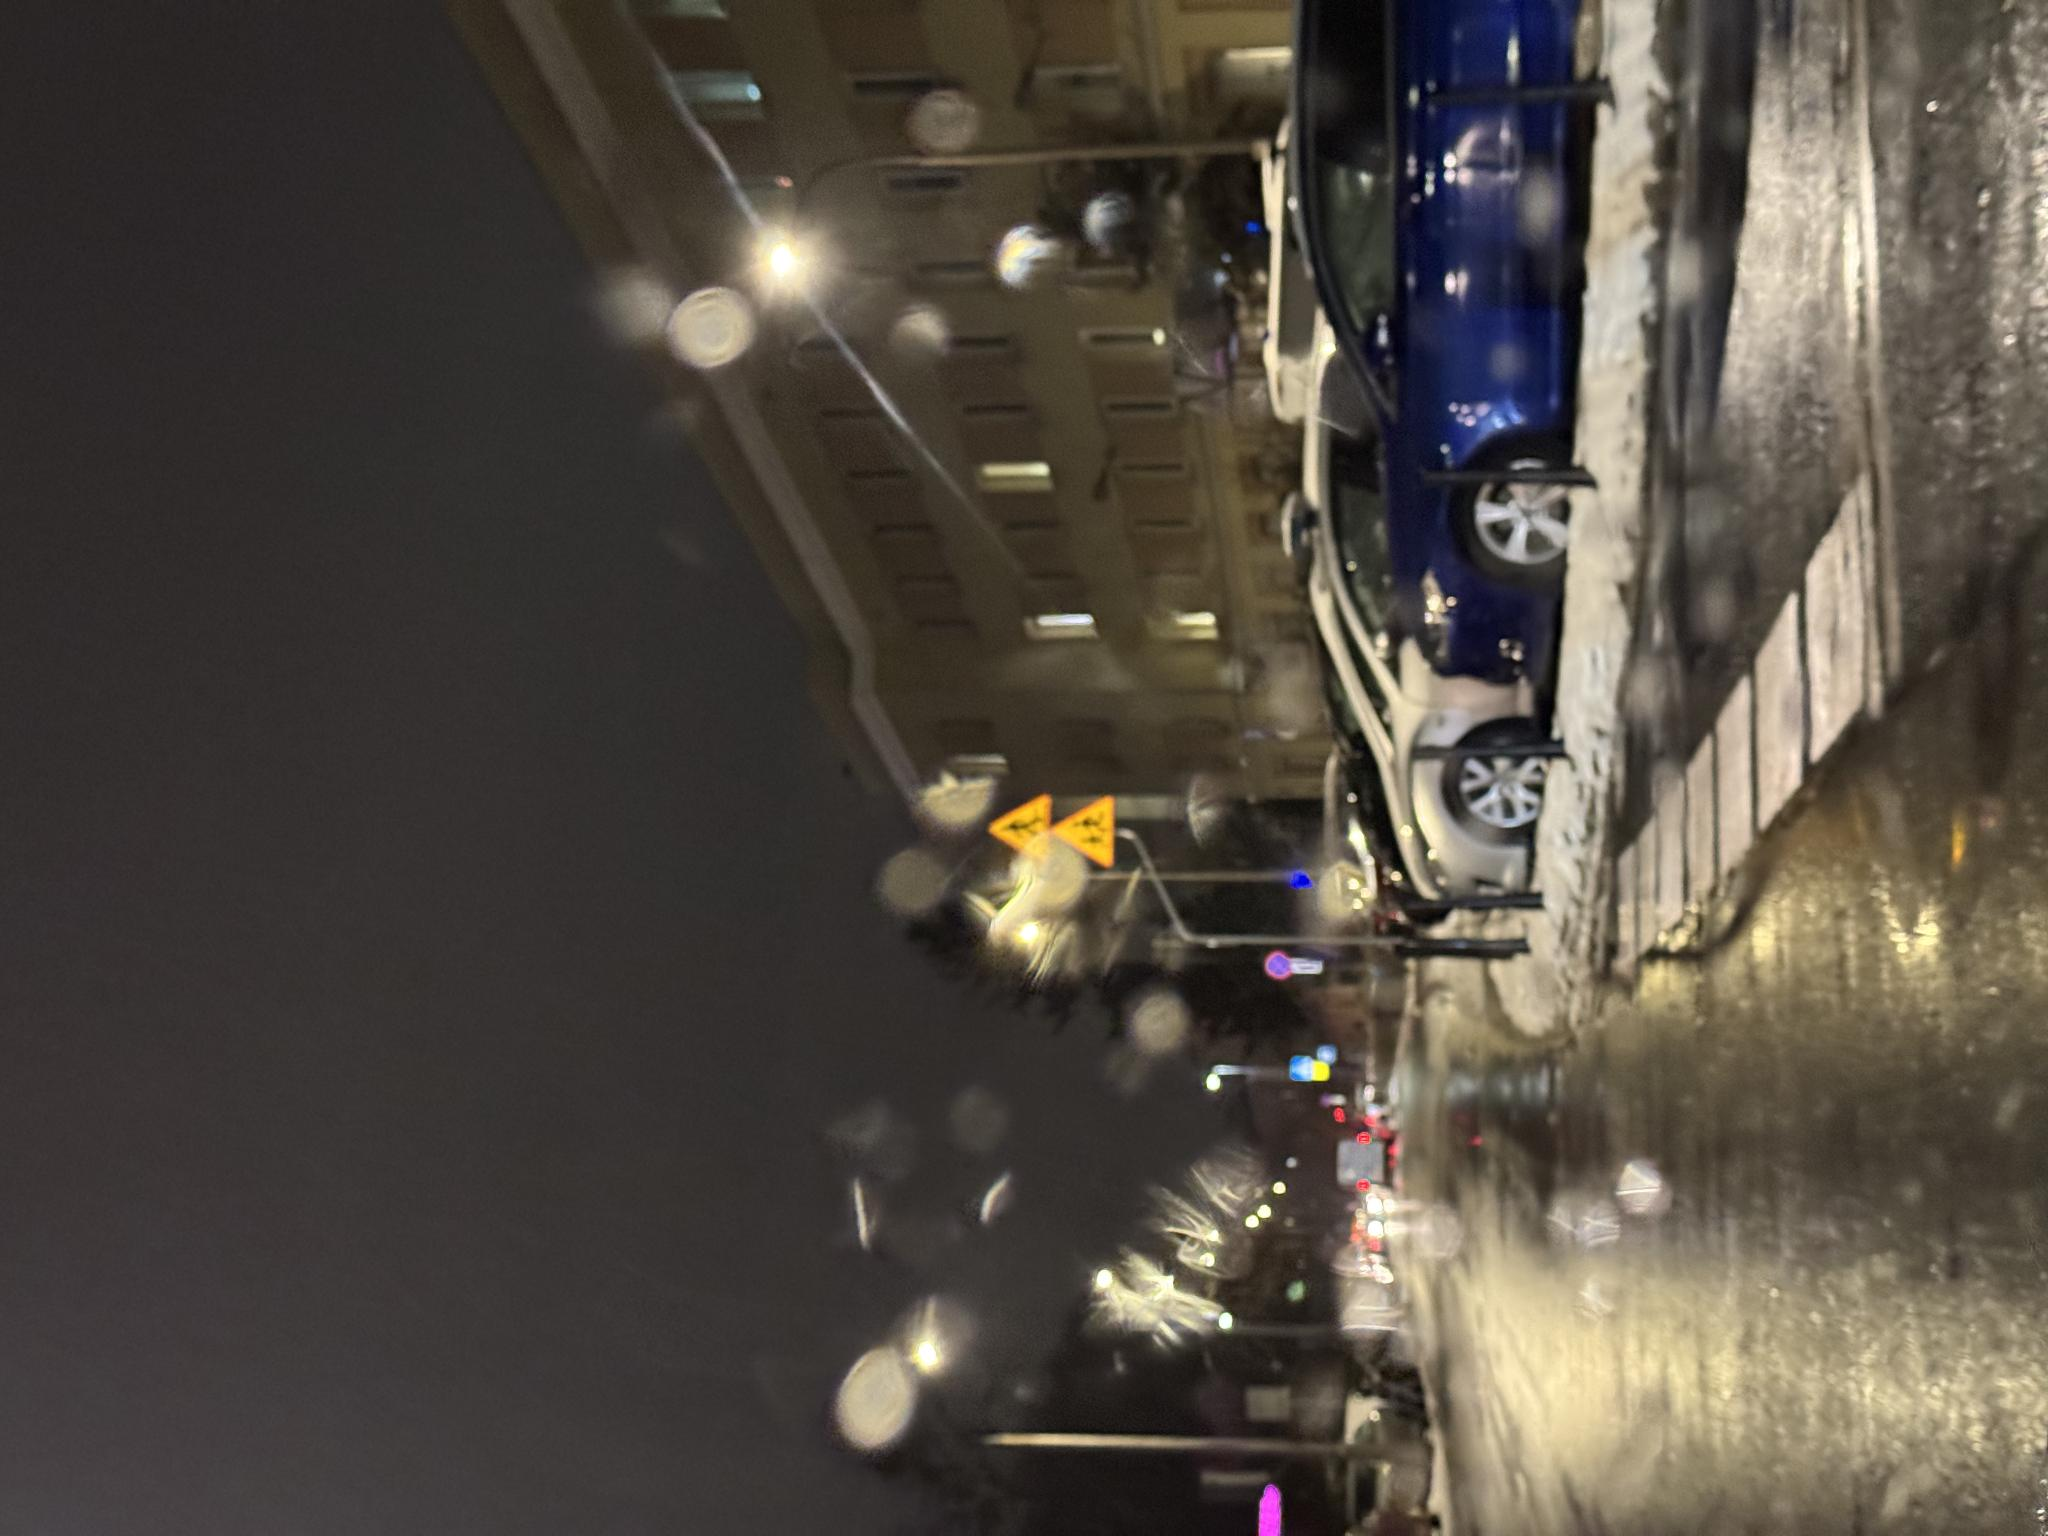prohibitory: (556, 1263, 585, 1291)
warning: (666, 1052, 740, 1117), (672, 986, 743, 1052)
